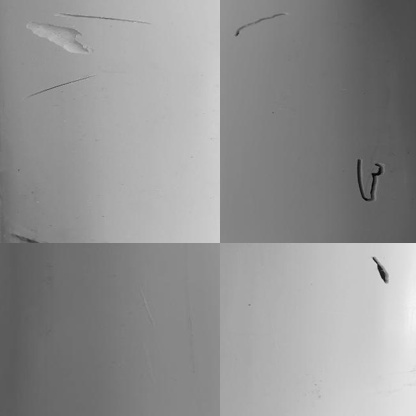fengxi: (352, 154, 384, 209), (230, 10, 288, 40)
kongdong: (369, 252, 388, 284)
sunshang: (27, 22, 91, 55), (60, 7, 153, 28), (34, 70, 97, 97)
